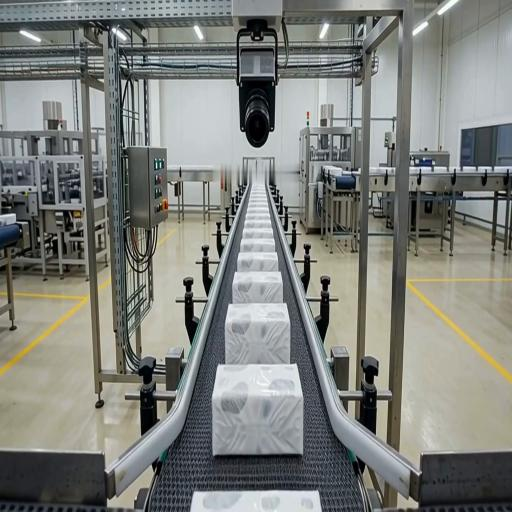good: (212, 363, 304, 456), (224, 302, 290, 365), (191, 490, 323, 512), (232, 269, 284, 304), (236, 249, 279, 271), (239, 235, 277, 252), (242, 226, 274, 236), (244, 218, 272, 227), (247, 206, 270, 213), (245, 212, 271, 218), (247, 201, 269, 206), (249, 197, 268, 201), (249, 194, 267, 197), (250, 191, 267, 194), (251, 188, 266, 190)
